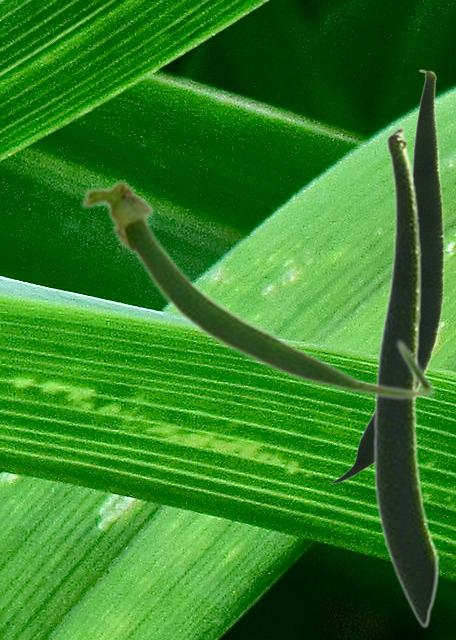french_bean: (78, 176, 436, 401), (328, 69, 443, 483), (372, 125, 439, 628)
